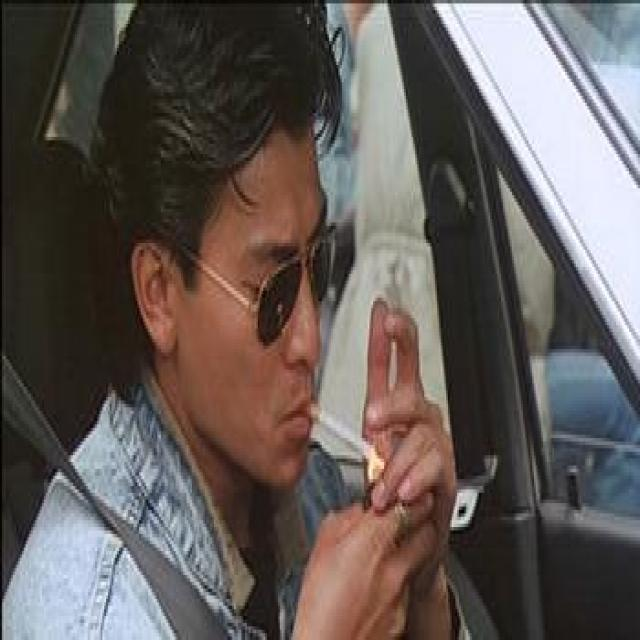smoke: (312, 396, 373, 462)
